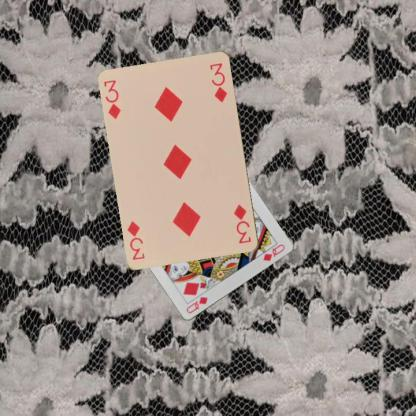3d: (231, 202, 253, 245), (102, 77, 122, 121)
Qd: (184, 294, 209, 315)
